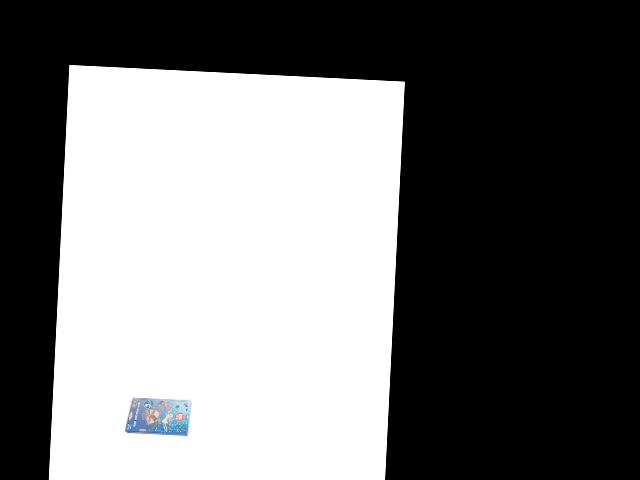chocolate: (124, 392, 193, 440)
